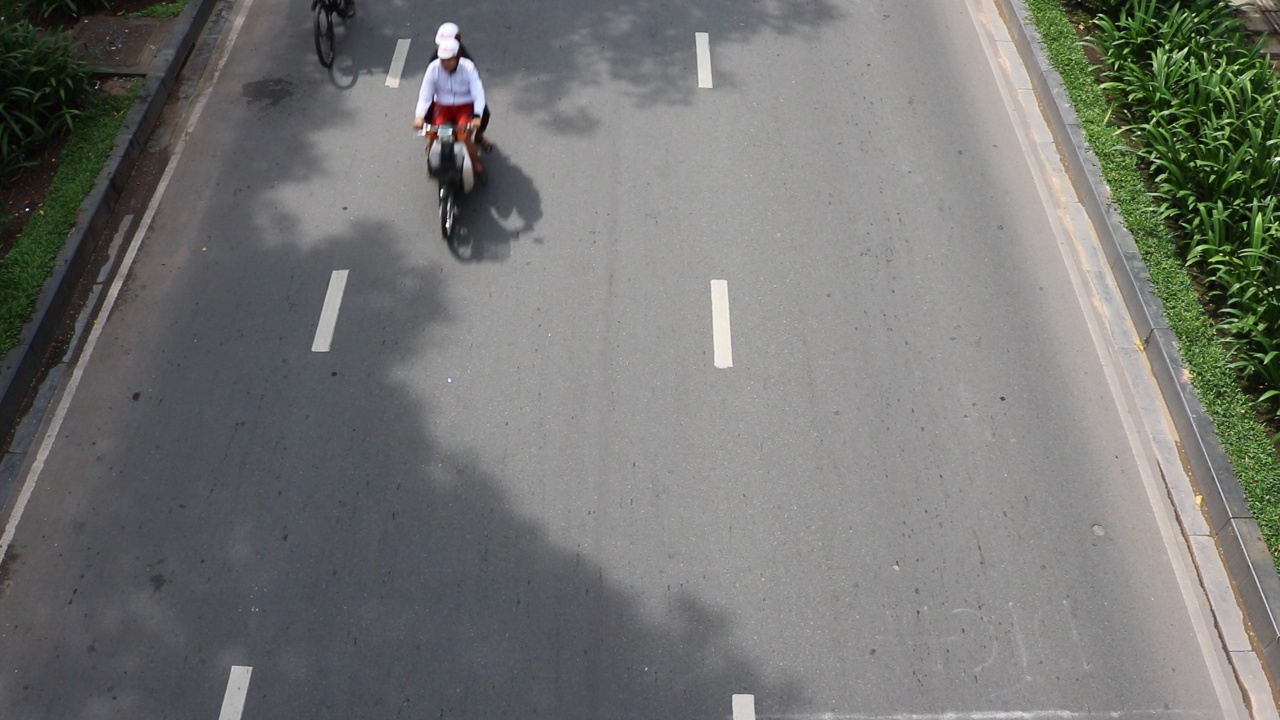bicycle: (311, 0, 358, 91)
motorcycle: (418, 118, 484, 241)
